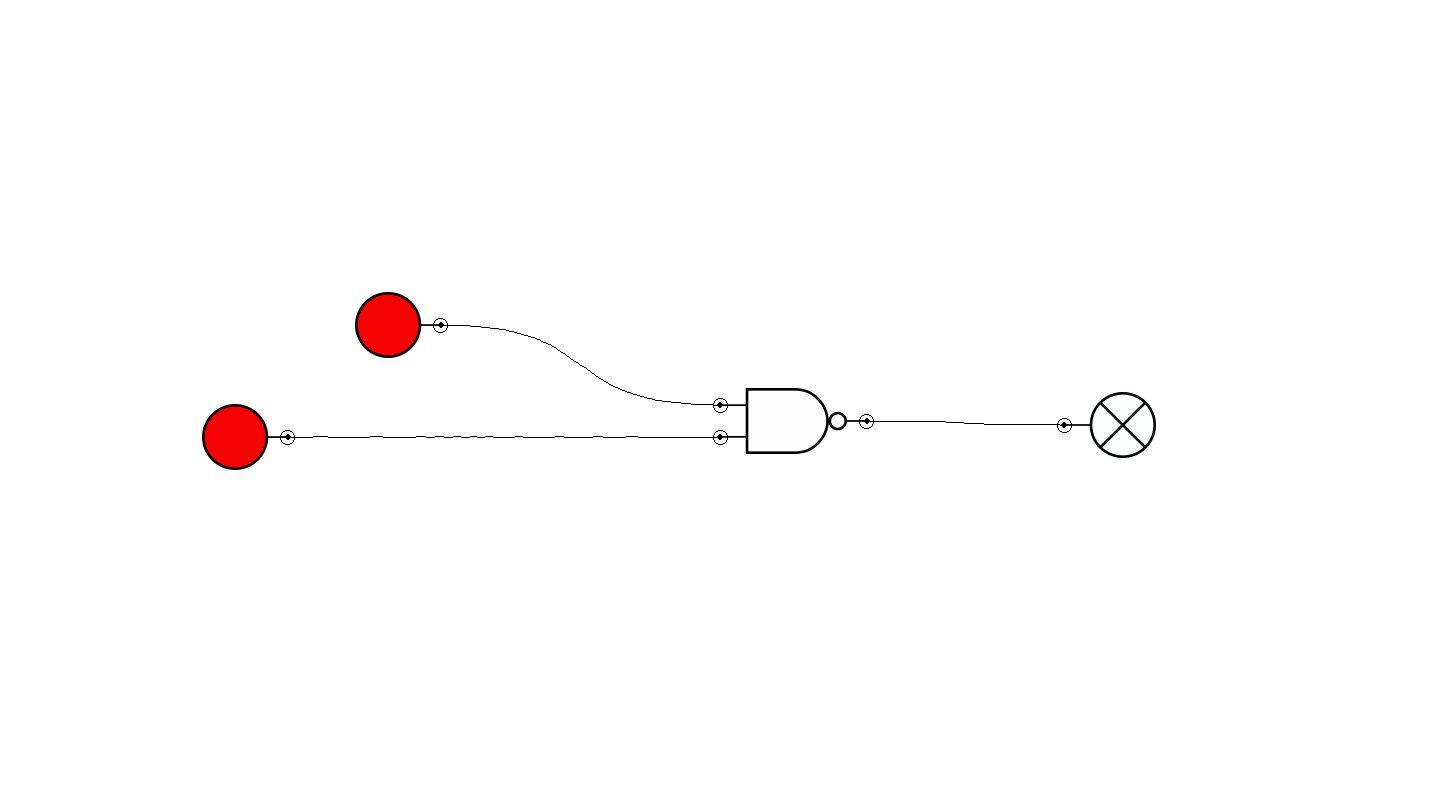bulb: (1057, 392, 1156, 458)
nand: (713, 388, 874, 454)
switch_False: (202, 404, 295, 470), (355, 292, 448, 358)
